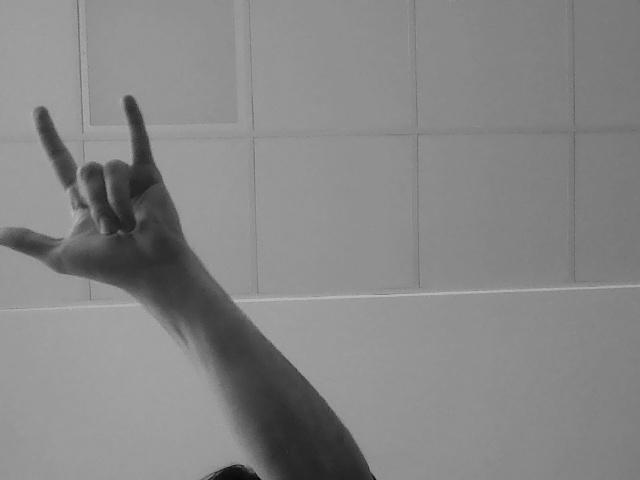I_Love_You: (0, 88, 234, 266)
